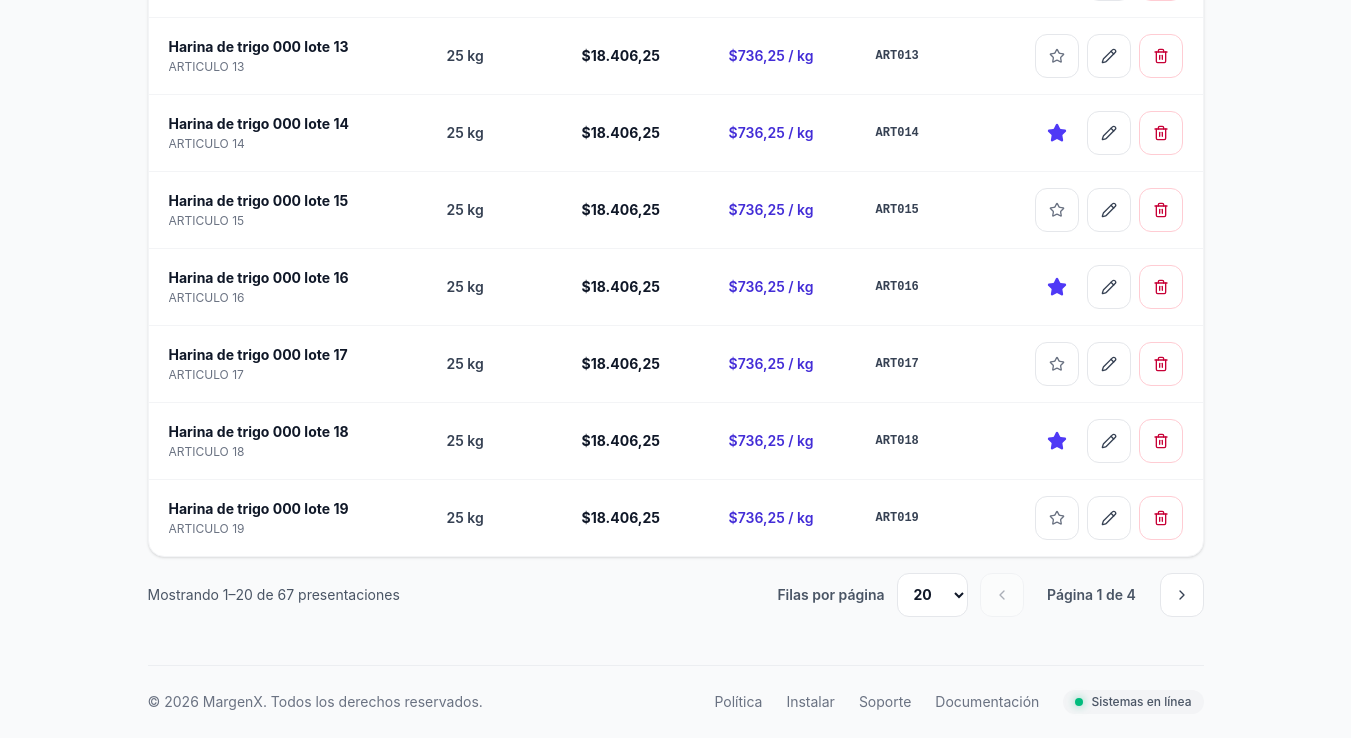
SupplierDetailPage - presentaciones paginadas y búsqueda (#350) › muestra 20 de 67 presentaciones con paginador y contadores sobre el total
(page scrolled)
Expected: the text "Mostrando 1–20 de 67 presentaciones" is shown, [148,584,400,604]
What coordinates should you click on to do the following:
click the button named "Página siguiente"
I would click on:
 (1182, 594)
Its box is [1160,572,1204,616].
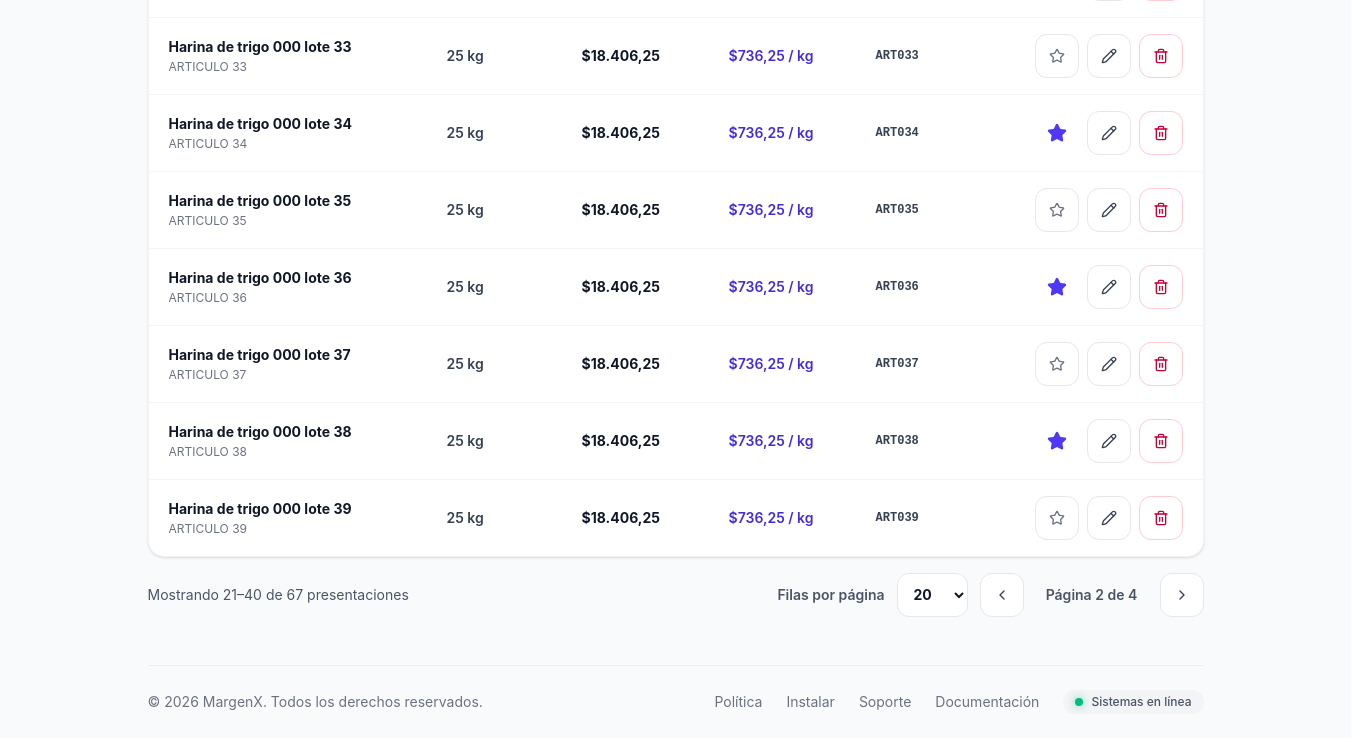
Expected: the text "Mostrando 21–40 de 67 presentaciones" is shown, [148,584,409,604]
